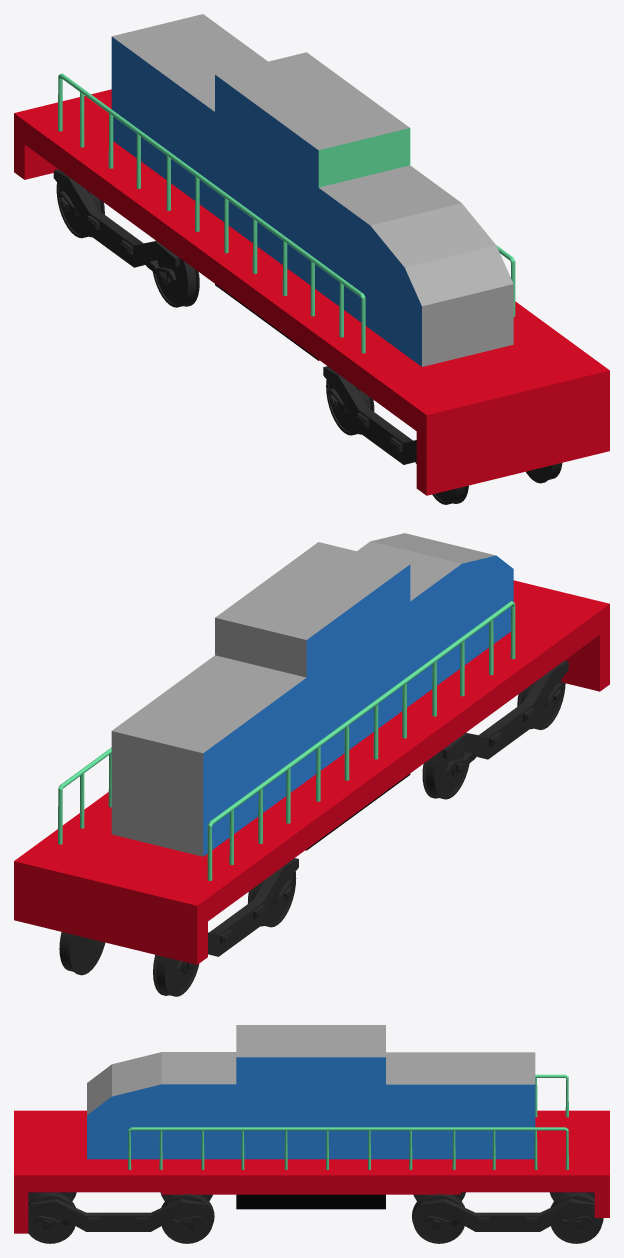
File: Locomotive 1.fbx
3 renders of one model, top to bottom at view 1: azimuth 30°, elevation 25°; view 2: azimuth 150°, elevation 25°; view 3: azimuth 270°, elevation 25°, orthographic. The views are drawn at different scales.
Parts seen in each view (by area): view 1: Locomotive, Wheel.002, Bars, Wheel.001; view 2: Locomotive, Wheel.002, Bars, Wheel.001; view 3: Locomotive, Wheel.001, Wheel.002, Bars.
Boxes of the visible parts, x1=… form: Locomotive: x1=14, y1=14, x2=609, y2=495; Wheel.002: x1=53, y1=169, x2=199, y2=307; Bars: x1=58, y1=73, x2=515, y2=353; Wheel.001: x1=323, y1=366, x2=562, y2=504; Locomotive: x1=14, y1=533, x2=609, y2=964; Wheel.002: x1=59, y1=858, x2=298, y2=996; Bars: x1=58, y1=601, x2=515, y2=880; Wheel.001: x1=422, y1=660, x2=568, y2=799; Locomotive: x1=14, y1=1025, x2=609, y2=1233; Wheel.001: x1=28, y1=1192, x2=214, y2=1243; Wheel.002: x1=412, y1=1192, x2=603, y2=1243; Bars: x1=128, y1=1074, x2=568, y2=1169.
Size of the model in its own units: 629 by 843 by 2453.
